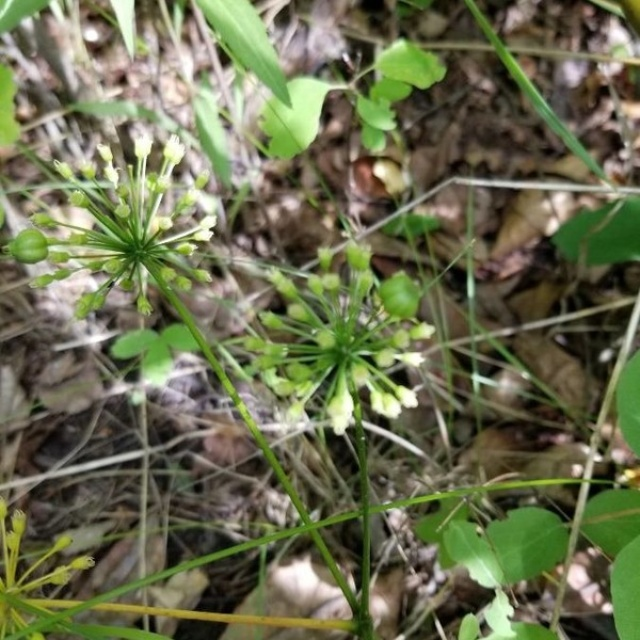obstacle: (17, 92, 410, 521)
